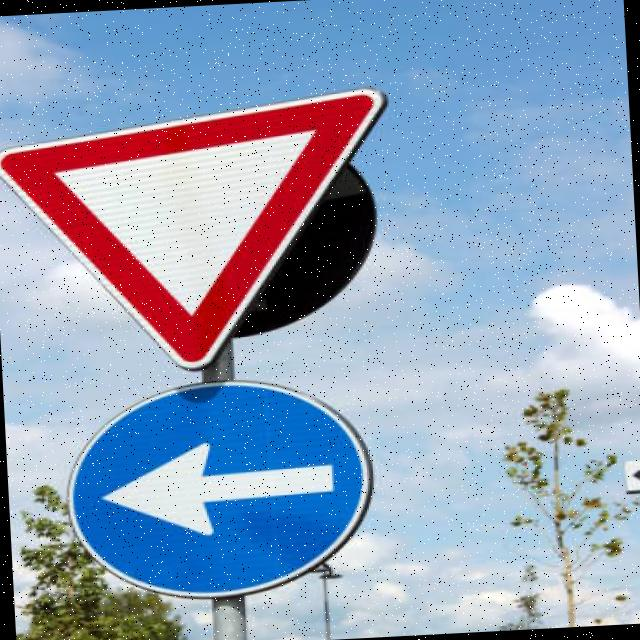give_way: (0, 75, 410, 383)
